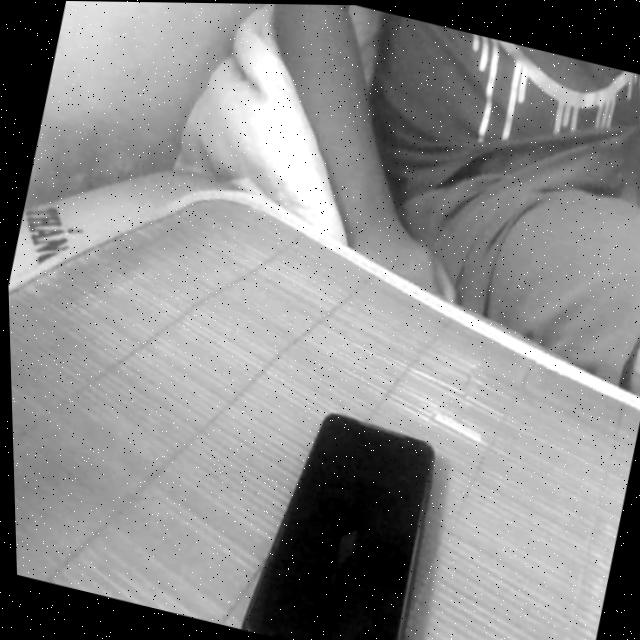phone: (205, 334, 491, 640)
